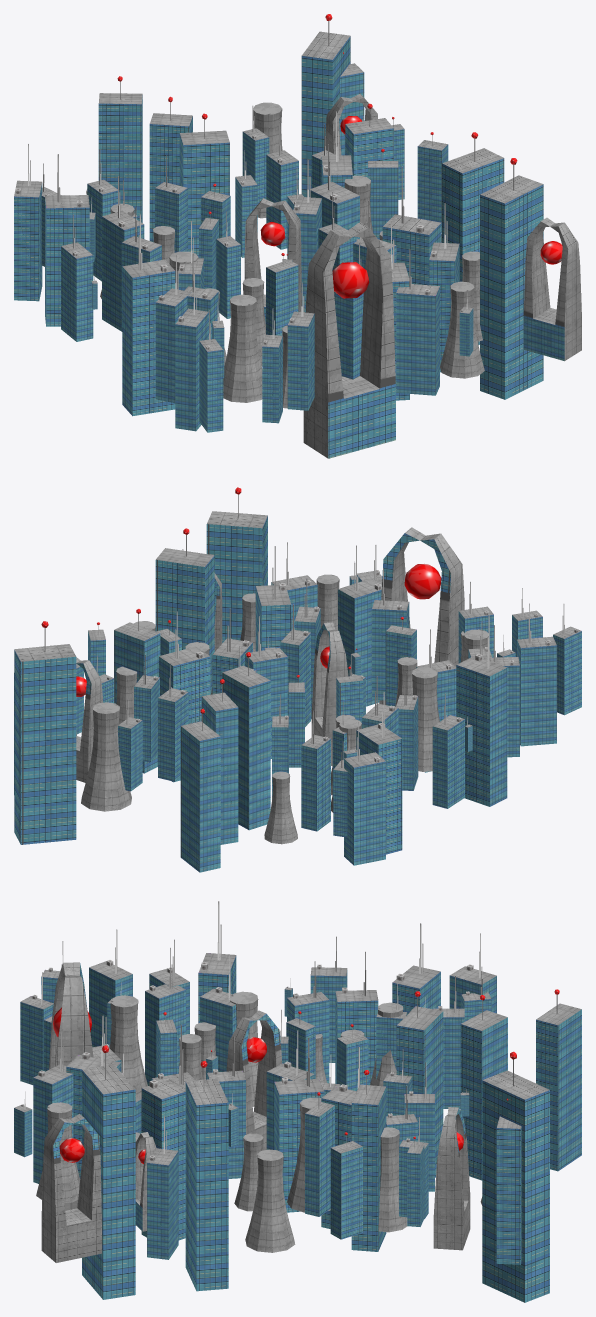
File: Cluster_26.fbx
The picture shows the model from 3 angles, top to bottom: view 1: azimuth 30°, elevation 25°; view 2: azimuth 150°, elevation 25°; view 3: azimuth 270°, elevation 25°; orthographic projection. The views are drawn at different scales.
Visible parts, largest first — view 1: pCube2Shape_MASH1_Instancer_74, polySurface11Shape_MASH1_Instancer_78, pCube2Shape_MASH1_Instancer_79, polySurface10Shape_MASH1_Instancer_40, polySurface10Shape_MASH1_Instancer_75, polySurface11Shape_MASH1_Instancer_8, polySurface11Shape_MASH1_Instancer_4, polySurface11Shape_MASH1_Instancer_58, polySurface11Shape_MASH1_Instancer_24, polySurface10Shape_MASH1_Instancer_10, polySurfaceShape12_MASH1_Instancer_62, polySurface10Shape_MASH1_Instancer_0 (+42 smaller); view 2: polySurface11Shape_MASH1_Instancer_8, polySurface10Shape_MASH1_Instancer_40, polySurface11Shape_MASH1_Instancer_4, polySurface11Shape_MASH1_Instancer_24, polySurface11Shape_MASH1_Instancer_78, pCube2Shape_MASH1_Instancer_74, polySurface11Shape_MASH1_Instancer_58, polySurface10Shape_MASH1_Instancer_0, polySurface10Shape_MASH1_Instancer_60, polySurfaceShape12_MASH1_Instancer_7, polySurface11Shape_MASH1_Instancer_14, polySurface10Shape_MASH1_Instancer_65 (+39 smaller); view 3: polySurface11Shape_MASH1_Instancer_8, polySurface11Shape_MASH1_Instancer_78, polySurface11Shape_MASH1_Instancer_58, pCube2Shape_MASH1_Instancer_79, polySurface11Shape_MASH1_Instancer_4, polySurface11Shape_MASH1_Instancer_14, pCube2Shape_MASH1_Instancer_19, polySurface11Shape_MASH1_Instancer_24, polySurface11Shape_MASH1_Instancer_38, polySurface10Shape_MASH1_Instancer_56, polySurface11Shape_MASH1_Instancer_9, pCube2Shape_MASH1_Instancer_44 (+45 smaller).
Part boxes in pixels (x1,y1,x2,y2): pCube2Shape_MASH1_Instancer_74: (303,222,395,458); polySurface11Shape_MASH1_Instancer_78: (480,158,543,399); pCube2Shape_MASH1_Instancer_79: (523,217,581,361); polySurface10Shape_MASH1_Instancer_40: (122,214,175,416); polySurface10Shape_MASH1_Instancer_75: (396,249,439,395); polySurface11Shape_MASH1_Instancer_8: (301,14,350,197); polySurface11Shape_MASH1_Instancer_4: (98,76,142,222); polySurface11Shape_MASH1_Instancer_58: (442,132,504,344); polySurface11Shape_MASH1_Instancer_24: (179,113,229,257); polySurface10Shape_MASH1_Instancer_10: (45,154,89,326); polySurfaceShape12_MASH1_Instancer_62: (223,294,262,402); polySurface10Shape_MASH1_Instancer_0: (14,144,42,301); polySurface11Shape_MASH1_Instancer_8: (14,621,76,844); polySurface10Shape_MASH1_Instancer_40: (456,615,507,806); polySurface11Shape_MASH1_Instancer_4: (180,708,220,872); polySurface11Shape_MASH1_Instancer_24: (222,652,270,830); polySurface11Shape_MASH1_Instancer_78: (206,487,267,642); pCube2Shape_MASH1_Instancer_74: (379,527,464,704); polySurface11Shape_MASH1_Instancer_58: (155,528,214,693); polySurface10Shape_MASH1_Instancer_0: (344,722,385,865); polySurface10Shape_MASH1_Instancer_60: (517,603,556,746); polySurfaceShape12_MASH1_Instancer_7: (81,702,131,811); polySurface11Shape_MASH1_Instancer_14: (201,679,238,844); polySurface10Shape_MASH1_Instancer_65: (338,545,381,706); polySurface11Shape_MASH1_Instancer_8: (482,1051,549,1302); polySurface11Shape_MASH1_Instancer_78: (82,1045,135,1299); polySurface11Shape_MASH1_Instancer_58: (185,1060,228,1291); pCube2Shape_MASH1_Instancer_79: (41,1114,101,1262); polySurface11Shape_MASH1_Instancer_4: (536,989,581,1171); polySurface11Shape_MASH1_Instancer_14: (460,995,507,1180); pCube2Shape_MASH1_Instancer_19: (433,1107,470,1250); polySurface11Shape_MASH1_Instancer_24: (396,991,443,1177); polySurface11Shape_MASH1_Instancer_38: (351,1070,386,1251); polySurface10Shape_MASH1_Instancer_56: (141,1025,193,1240); polySurface11Shape_MASH1_Instancer_9: (496,1098,521,1264); pCube2Shape_MASH1_Instancer_44: (226,1010,281,1150).
Bounding box in the file's own units: 111 × 62.02 × 133.
